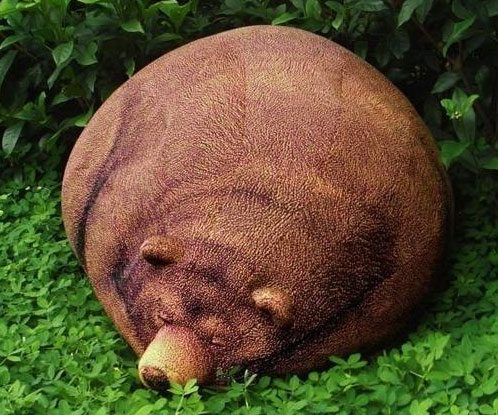bear: (127, 237, 298, 396)
